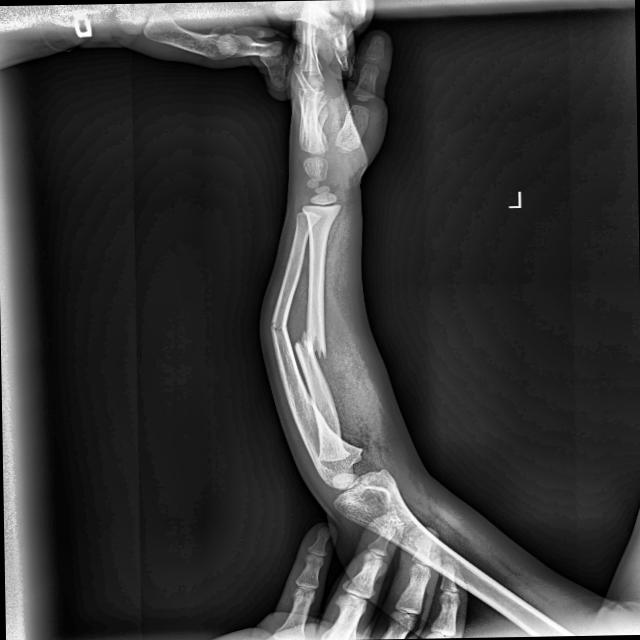Fracture: (292, 320, 332, 362), (268, 310, 288, 340)
